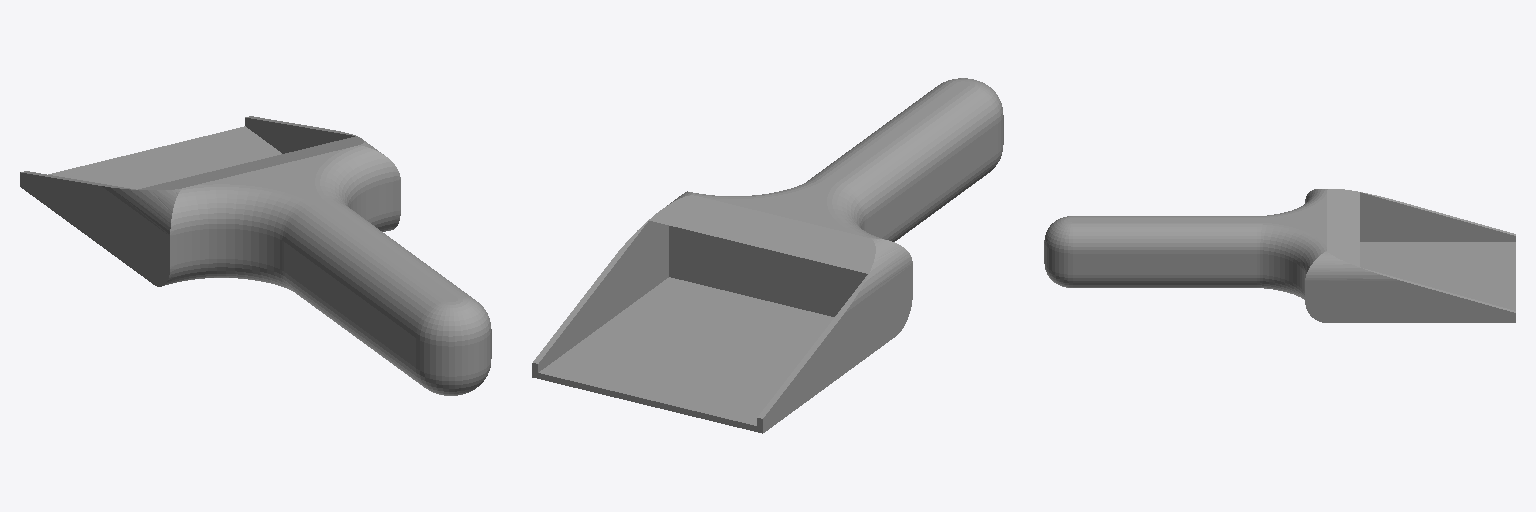
The robot description file, URDF, robot "dust_pan":
<?xml version="1.0" ?>
<robot name="dust_pan">
  <link name="dust_pan">
    <visual>
      <origin rpy="0 0 0" xyz="0 0 0"/>
      <geometry>
          <mesh filename="meshes/dustpan.STL" scale=".005 .005 .005"/>
      </geometry>
      <material name="Grey">
        <color rgba="0.65 0.65 0.65 1"/>
      </material>
    </visual>
    <collision>
      <origin rpy="0 0 0" xyz="0 0 0"/>
      <geometry>
        <mesh filename="meshes/dustpan.STL" scale=".005 .005 .005"/>
      </geometry>
    </collision>
    <inertial>
      <density value="50.0"/>
    </inertial>
  </link>
</robot>

--- What the picture shows (computed from the rendered views, not written in the file) ---
Views: 3 orthographic renders of the robot side by side, from view 1: azimuth 30°, elevation 25°; view 2: azimuth 150°, elevation 25°; view 3: azimuth 270°, elevation 25°.
Robot: dust_pan — 1 links, 0 joints (none); root link dust_pan; default pose: all joints at 0.
Links seen in each view (by area): view 1: dust_pan; view 2: dust_pan; view 3: dust_pan.
Boxes of the visible links, bbox=[...] form: dust_pan: bbox=[20, 116, 491, 395]; dust_pan: bbox=[532, 78, 1003, 433]; dust_pan: bbox=[1044, 189, 1515, 322].
Bounding box of the posed robot: 0.254 × 0.64 × 0.0952 m (x, y, z).
Meshes: 1 distinct files referenced, 1 mesh visuals loaded (1 binary STL).